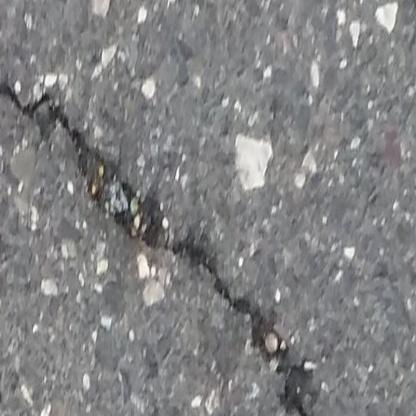Cracks: (0, 73, 335, 416)
